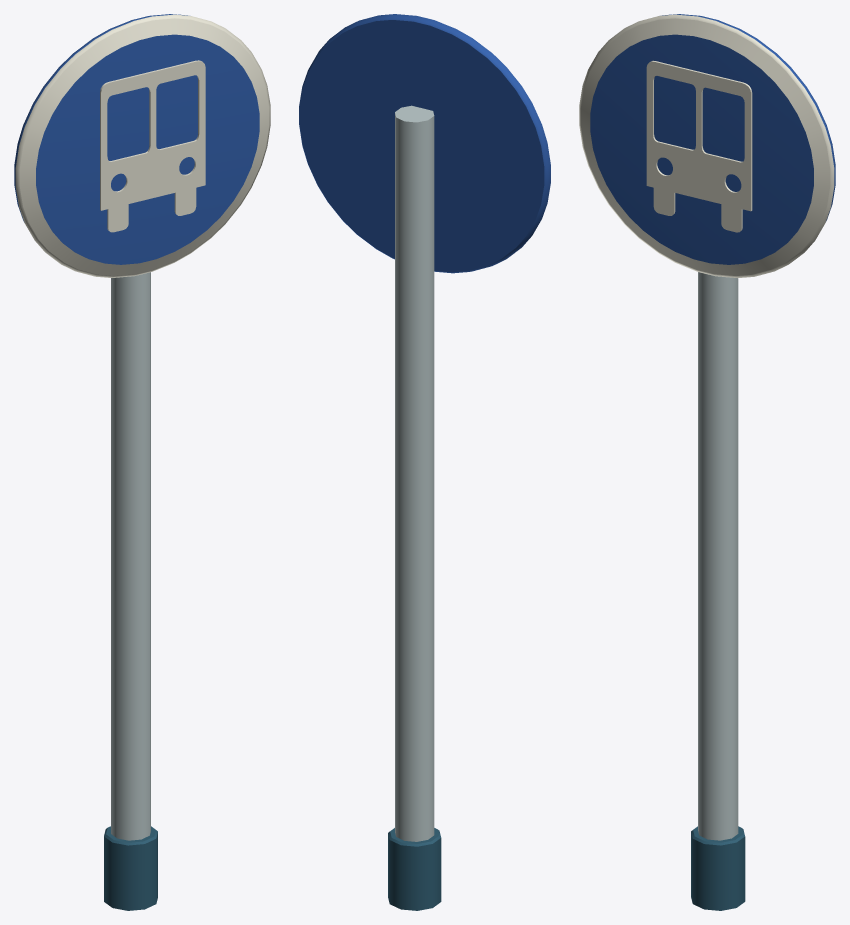
Rendered from bus_sign.fbx.
3 views of the same model, side by side, from view 1: azimuth 30°, elevation 25°; view 2: azimuth 150°, elevation 25°; view 3: azimuth 330°, elevation 25° (orthographic).
Parts seen in each view (by area): view 1: bus_sign; view 2: bus_sign; view 3: bus_sign.
Part boxes in pixels (box(x1,y1,x2,y2)): bus_sign: box(14, 14, 270, 910); bus_sign: box(299, 14, 550, 910); bus_sign: box(579, 14, 835, 910).
Bounding box in the file's own units: 108 × 360 × 25.41.
